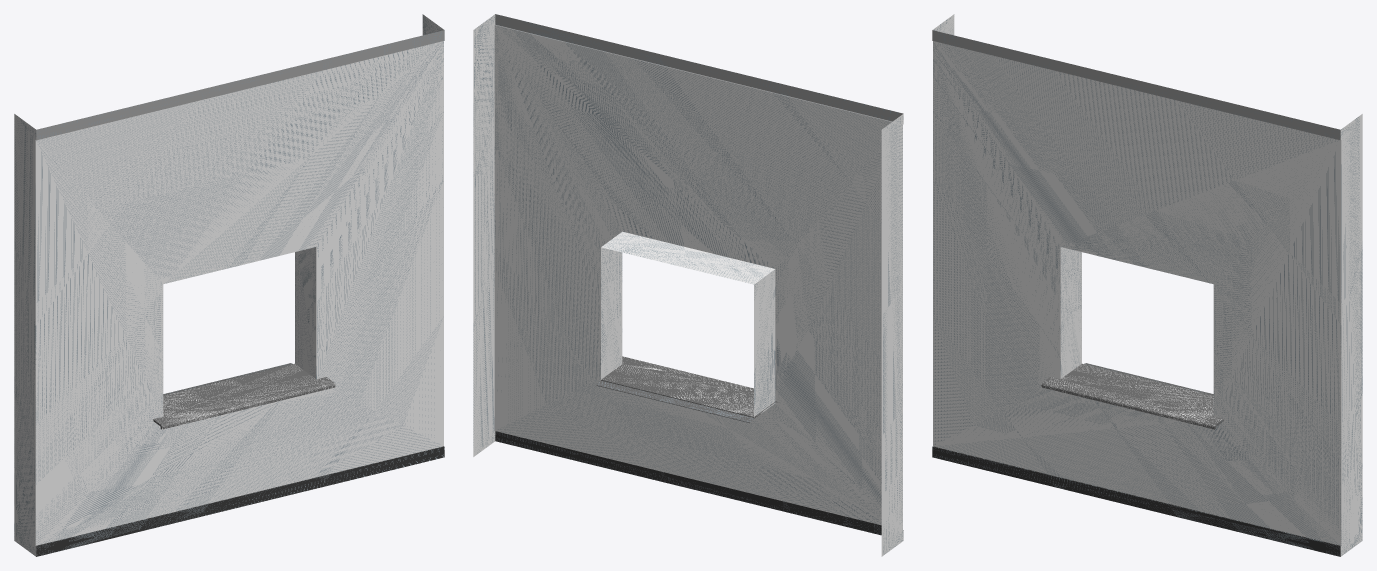
Rendered from WindowBlock_os_plinth_[400x400]_150x124x[100].dae.
3 views of the same model, side by side, from view 1: azimuth 30°, elevation 25°; view 2: azimuth 150°, elevation 25°; view 3: azimuth 330°, elevation 25° (orthographic).
Parts seen in each view (by area): view 1: group_1 (×4), group_2; view 2: group_1 (×4), group_2 (×2); view 3: group_1 (×4), group_2.
Part boxes in pixels (x1=…): group_1 (×4): x1=14, y1=14, x2=444, y2=556; group_2: x1=153, y1=363, x2=335, y2=429; group_1 (×4): x1=473, y1=14, x2=903, y2=556; group_2 (×2): x1=596, y1=356, x2=777, y2=422; group_1 (×4): x1=932, y1=14, x2=1362, y2=556; group_2: x1=1041, y1=363, x2=1223, y2=429.
Bounding box in the file's own units: 157 × 23.03 × 157.
